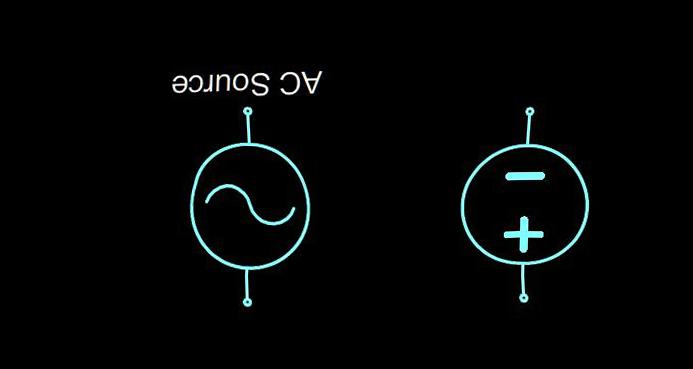Battery: (429, 124, 621, 282)
